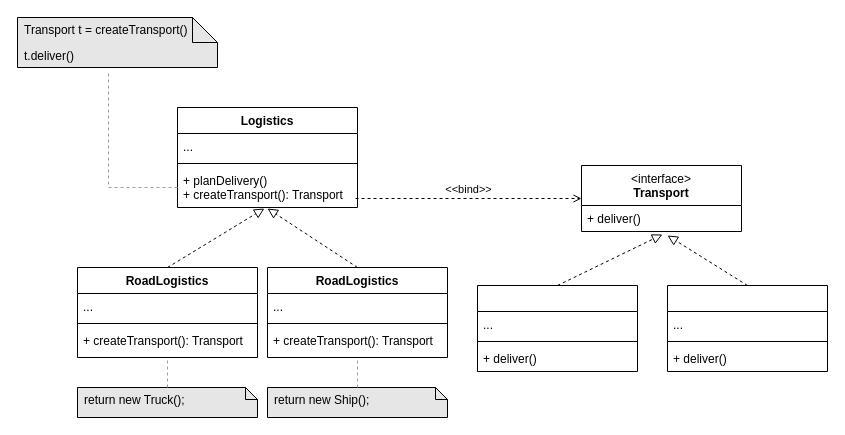
Image size: 845x435. Some labels were removed from this diagram. The box of each missing label's shape, as (x1, y1, x2, y2) in pixels:
Ship: (666, 284, 828, 372)
Truck: (476, 284, 638, 372)
